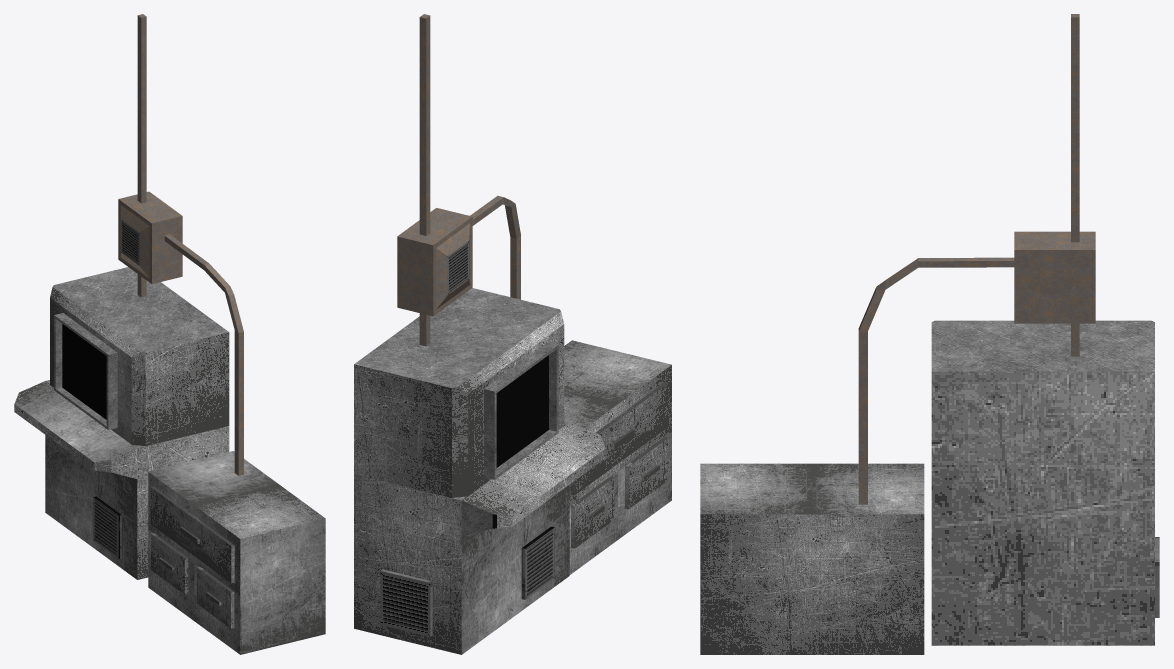
File: new_terminal.glb
3 views of the same model, side by side, from view 1: azimuth 30°, elevation 25°; view 2: azimuth 150°, elevation 25°; view 3: azimuth 270°, elevation 25° (orthographic). The views are drawn at different scales.
Parts seen in each view (by area): view 1: body, dresser, cables, frame, cables.001; view 2: body, dresser, cables, frame, cables.001; view 3: body, dresser, cables.
Boxes of the visible parts, x1,y1,x2,y2 form: body: (14,267,229,579); dresser: (148,451,325,654); cables: (118,14,243,475); frame: (54,313,117,429); cables.001: (121,220,139,265); body: (354,288,605,654); dresser: (564,340,671,574); cables: (397,14,520,346); frame: (484,342,558,479); cables.001: (447,241,469,294); body: (931,320,1159,645); dresser: (700,463,924,654); cables: (858,14,1095,504).
Size of the model in its own units: 0.7646 by 2.88 by 1.93.
2 materials, 2 textured.
